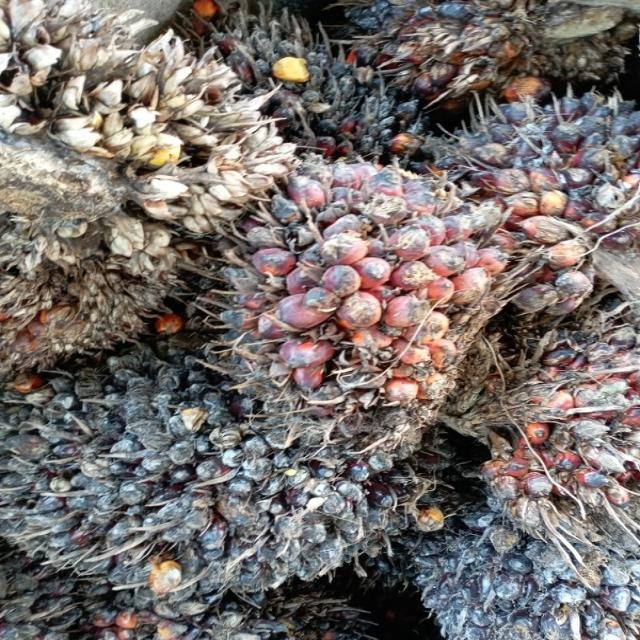fraksi 1: (0, 308, 401, 604), (239, 157, 517, 402)
